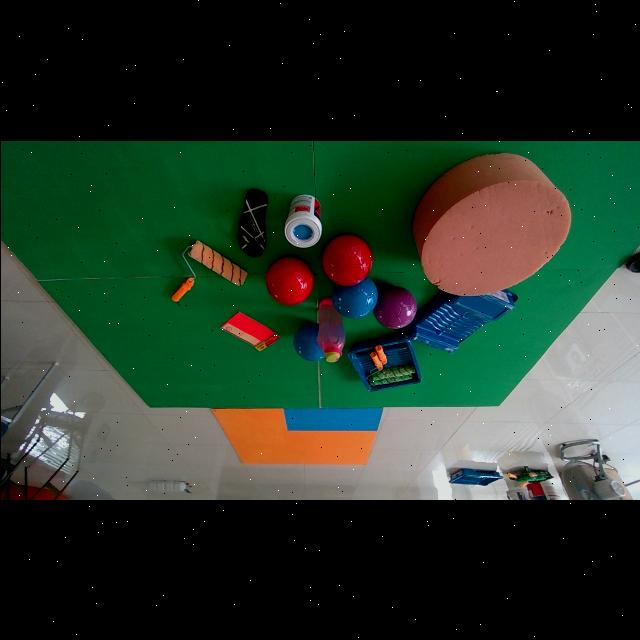B: (331, 277, 378, 318), (292, 322, 323, 360)
P: (372, 286, 416, 328)
R: (321, 234, 372, 285), (265, 257, 313, 305)
